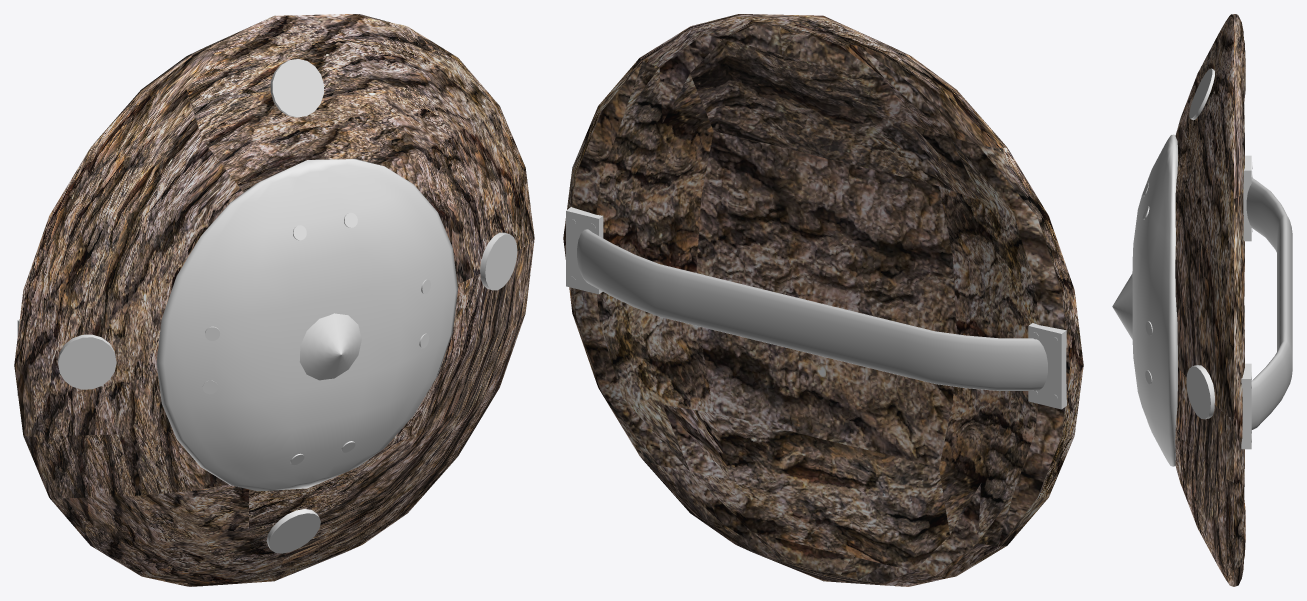
Rendered from item 1.FBX.
3 views of the same model, side by side, from view 1: azimuth 30°, elevation 25°; view 2: azimuth 150°, elevation 25°; view 3: azimuth 270°, elevation 25° (orthographic). The views are drawn at different scales.
Visible parts, largest first — view 1: big shield, small shield, tornillo plano grande, spike, tornillos planos; view 2: Object001, rope, metal hold; view 3: big shield, small shield, Object001, rope, tornillo plano grande, metal hold, spike, tornillos planos.
Part boxes in pixels (bbox=[...]): big shield: bbox=[14, 14, 534, 586]; small shield: bbox=[156, 159, 457, 491]; tornillo plano grande: bbox=[57, 59, 517, 553]; spike: bbox=[299, 313, 361, 380]; tornillos planos: bbox=[202, 212, 430, 464]; Object001: bbox=[563, 14, 1083, 586]; rope: bbox=[577, 229, 1047, 390]; metal hold: bbox=[566, 206, 1066, 409]; big shield: bbox=[1175, 14, 1233, 586]; small shield: bbox=[1132, 134, 1177, 466]; Object001: bbox=[1234, 14, 1245, 586]; rope: bbox=[1246, 177, 1292, 429]; tornillo plano grande: bbox=[1186, 68, 1214, 419]; metal hold: bbox=[1241, 155, 1251, 449]; spike: bbox=[1112, 274, 1132, 339]; tornillos planos: bbox=[1142, 162, 1252, 442].
Bounding box in the file's own units: 80.9 × 84.01 × 26.1.
